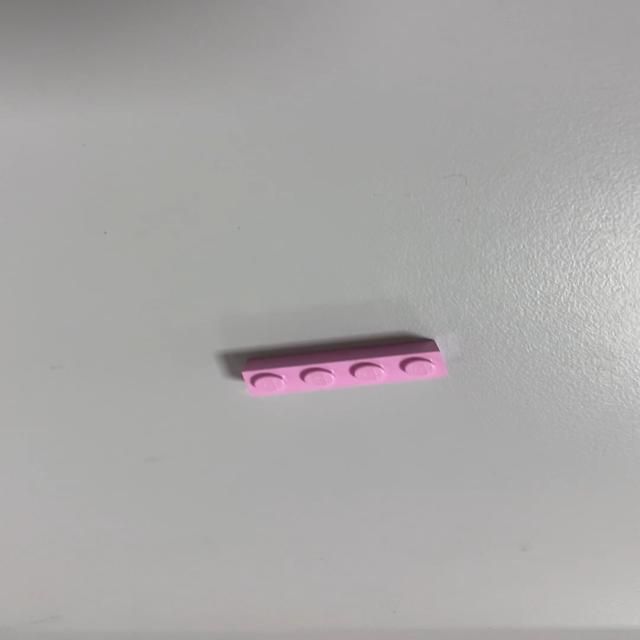C4x1x1: (239, 338, 448, 397)
